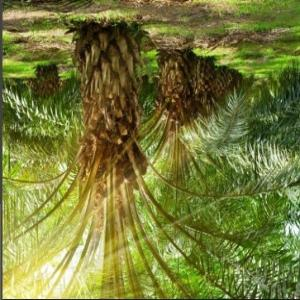palm tree: (1, 11, 299, 298)
